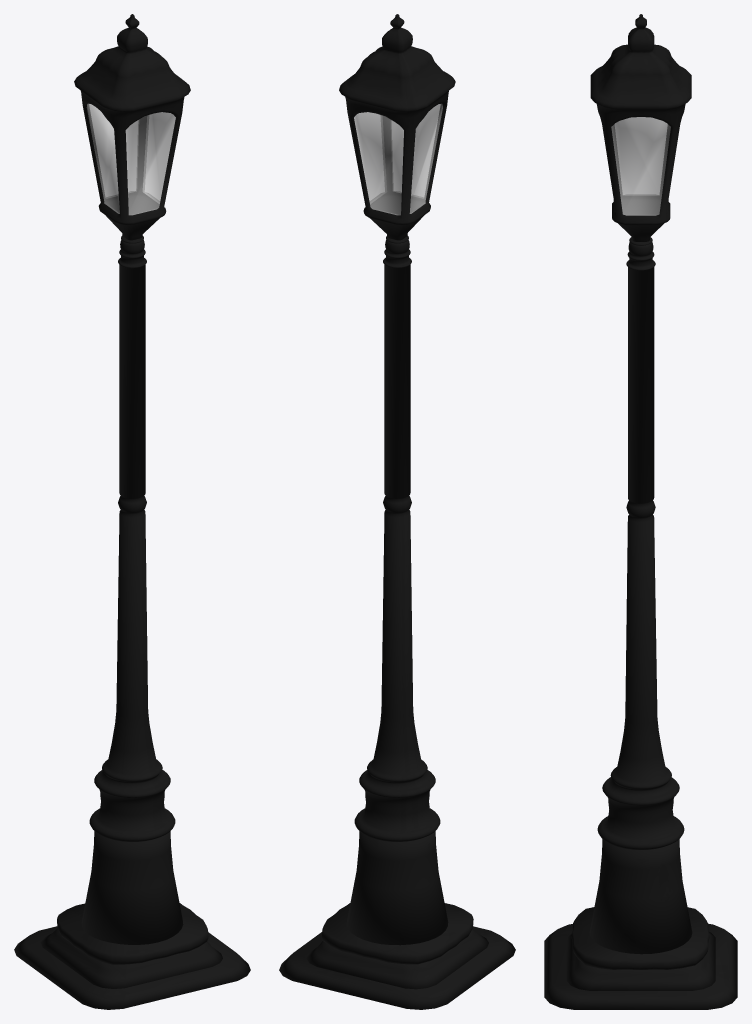
The model's file is lamp.fbx.
The picture shows the model from 3 angles, left to right: view 1: azimuth 30°, elevation 25°; view 2: azimuth 150°, elevation 25°; view 3: azimuth 270°, elevation 25°; orthographic projection.
Parts seen in each view (by area): view 1: Cube; view 2: Cube; view 3: Cube.
Part boxes in pixels (bbox=[...]): Cube: bbox=[14, 14, 250, 1009]; Cube: bbox=[279, 14, 515, 1009]; Cube: bbox=[544, 14, 737, 1009].
Bounding box in the file's own units: 65.41 × 357 × 65.41.
2 materials, 1 textured.
